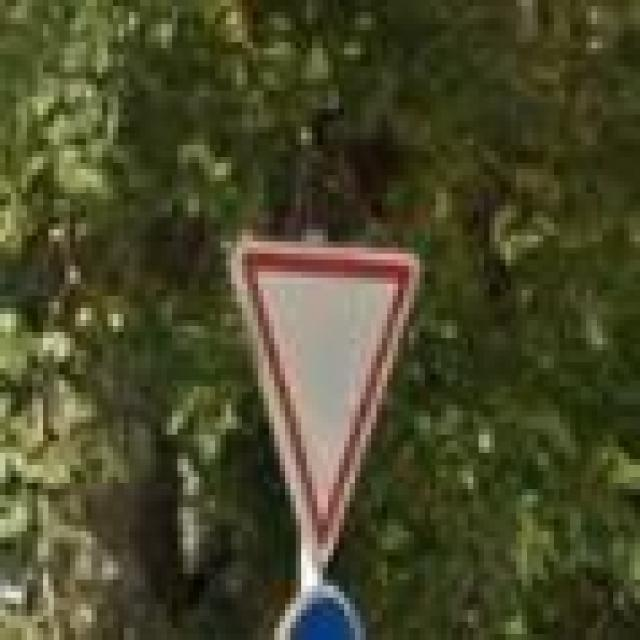give_way: (231, 235, 425, 568)
